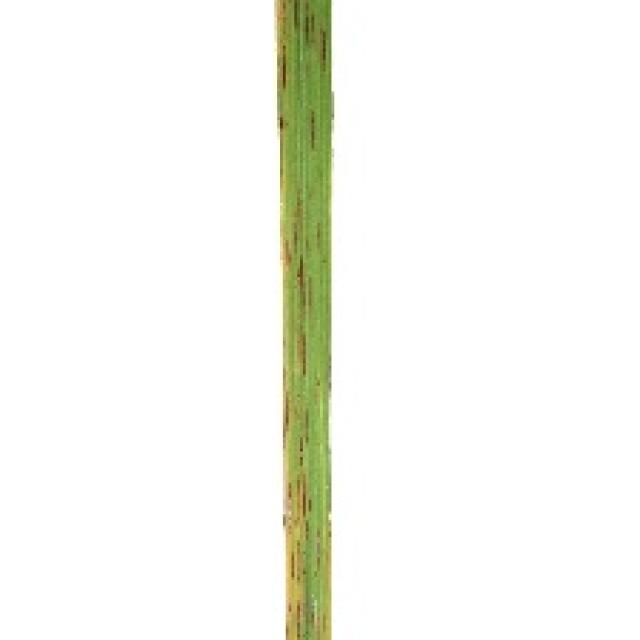Unhealthy: (297, 253, 315, 378), (283, 368, 296, 450), (291, 197, 305, 254), (299, 407, 309, 466), (279, 116, 286, 190), (282, 237, 292, 282), (310, 110, 315, 149), (297, 474, 301, 520), (282, 45, 286, 90), (322, 31, 326, 73), (305, 2, 309, 43), (297, 603, 301, 640), (303, 474, 306, 517), (294, 0, 298, 31), (291, 554, 295, 581), (305, 520, 309, 540), (311, 14, 315, 32), (288, 483, 292, 501), (308, 500, 312, 512), (317, 557, 320, 572), (289, 602, 292, 612)
